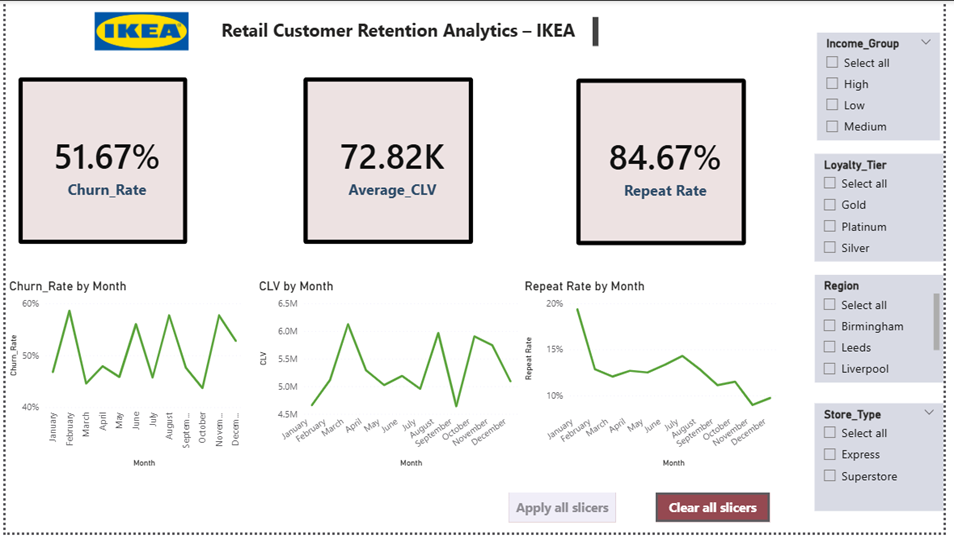

This screenshot's page, from the dashboard's own definition file:
{"tool":"powerbi","page":{"name":"Loyalty & Promotion Impact","canvas":[1280,720],"ordinal":6},"visuals":[{"type":"slicer","fields":{"Values":["customer_Demographics_Transaction.Income_Group"]},"box":[1032,24.8,177.2,149.1],"z":0,"group":"g1"},{"type":"clusteredColumnChart","fields":{"Y":["Sum(Loyalty_Program.Points_Earned)","Sum(Loyalty_Program.Points_Redeemed)"],"Category":["Loyalty_Program.Loyalty_Tier"]},"box":[31.5,44.7,435.7,296.5],"z":0},{"type":"columnChart","fields":{"Y":["Calculation_Dump.Avg Purchase With Promotion","Calculation_Dump.Avg Purchase Without promotion"],"Category":["Loyalty_Program.Loyalty_Tier"]},"box":[503.6,44.7,435.7,298.2],"z":1000},{"type":"slicer","fields":{"Values":["Loyalty_Program.Loyalty_Tier"]},"box":[1028.7,192.1,185.5,149.1],"z":1000,"group":"g1"},{"type":"slicer","fields":{"Values":["customer_Demographics_Transaction.Region"]},"box":[1028.7,359.4,185.5,149.1],"z":2000,"group":"g1"},{"type":"columnChart","fields":{"Y":["Calculation_Dump.Churn_Rate"],"Category":["Loyalty_Program.Loyalty_Tier"]},"box":[31.5,371.1,435.7,298.2],"z":2000},{"type":"group","id":"g1","title":"Group 1","box":[1028.7,24.8,185.5,660.9],"z":3000},{"type":"slicer","fields":{"Values":["Store_Locations.Store_Type"]},"box":[1028.7,536.7,185.5,149.1],"z":3000,"group":"g1"},{"type":"actionButton","box":[824.9,646,155.7,39.8],"z":3000,"group":"g2"},{"type":"group","id":"g2","title":"Group 2","box":[624.5,646,356.1,39.8],"z":4000},{"type":"actionButton","box":[624.5,646,145.8,39.8],"z":4000,"group":"g2"}]}

Visuals, with their boxes in screenshot pixels (x1, y1, x2, y2), scaled from the page's 1280x720 canvas onto the 954x539 screenshot:
slicer - customer_Demographics_Transaction.Income_Group: (769,19,901,130)
clusteredColumnChart - Sum(Loyalty_Program.Points_Earned) x Sum(Loyalty_Program.Points_Redeemed): (23,33,348,255)
columnChart - Calculation_Dump.Avg Purchase With Promotion x Calculation_Dump.Avg Purchase Without promotion: (375,33,700,257)
slicer - Loyalty_Program.Loyalty_Tier: (767,144,905,255)
slicer - customer_Demographics_Transaction.Region: (767,269,905,381)
columnChart - Calculation_Dump.Churn_Rate x Loyalty_Program.Loyalty_Tier: (23,278,348,501)
"Group 1" group: (767,19,905,513)
slicer - Store_Locations.Store_Type: (767,402,905,513)
actionButton: (615,484,731,513)
"Group 2" group: (465,484,731,513)
actionButton: (465,484,574,513)
